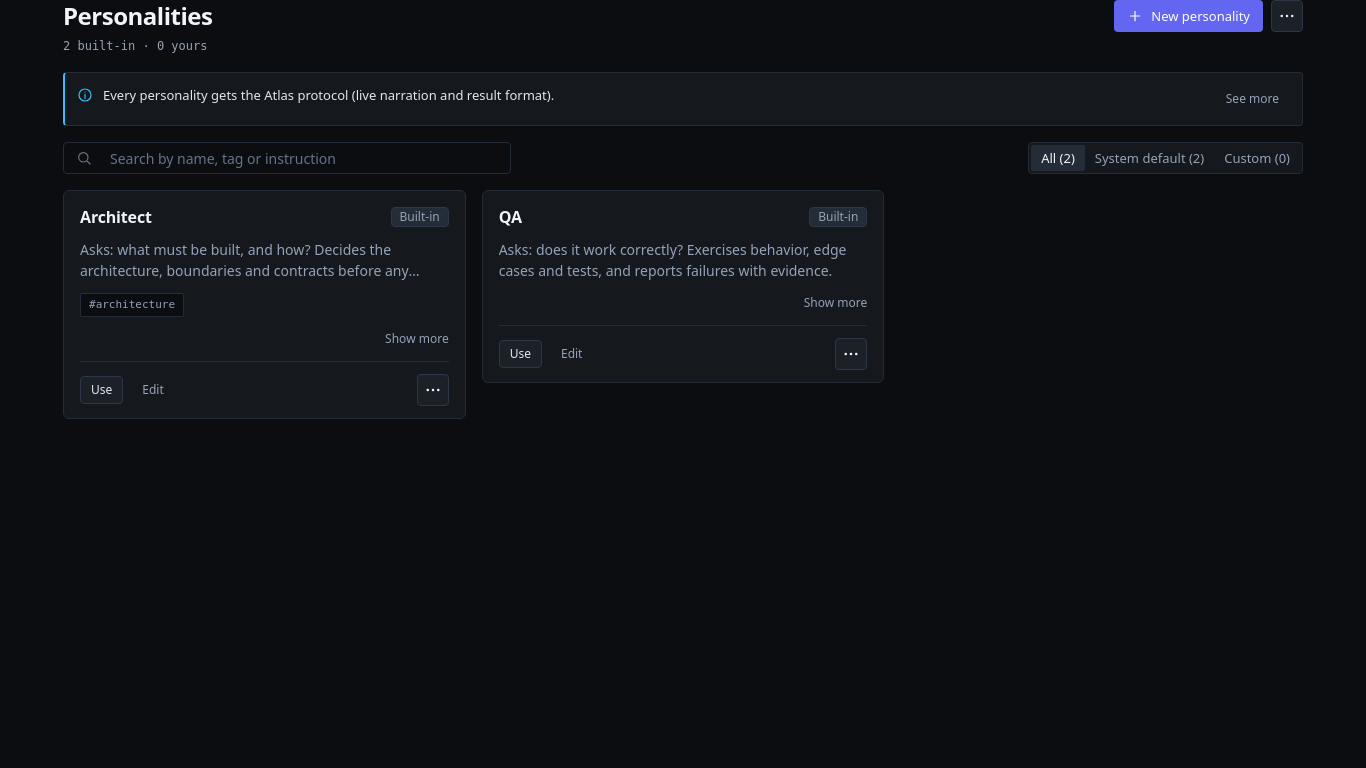
Test case: PersonalitiesPage › words a validation error from the core in the interface language
This screenshot has width=1366, height=768.
Click the button "New personality": (1189, 16) [1114, 0, 1263, 32]
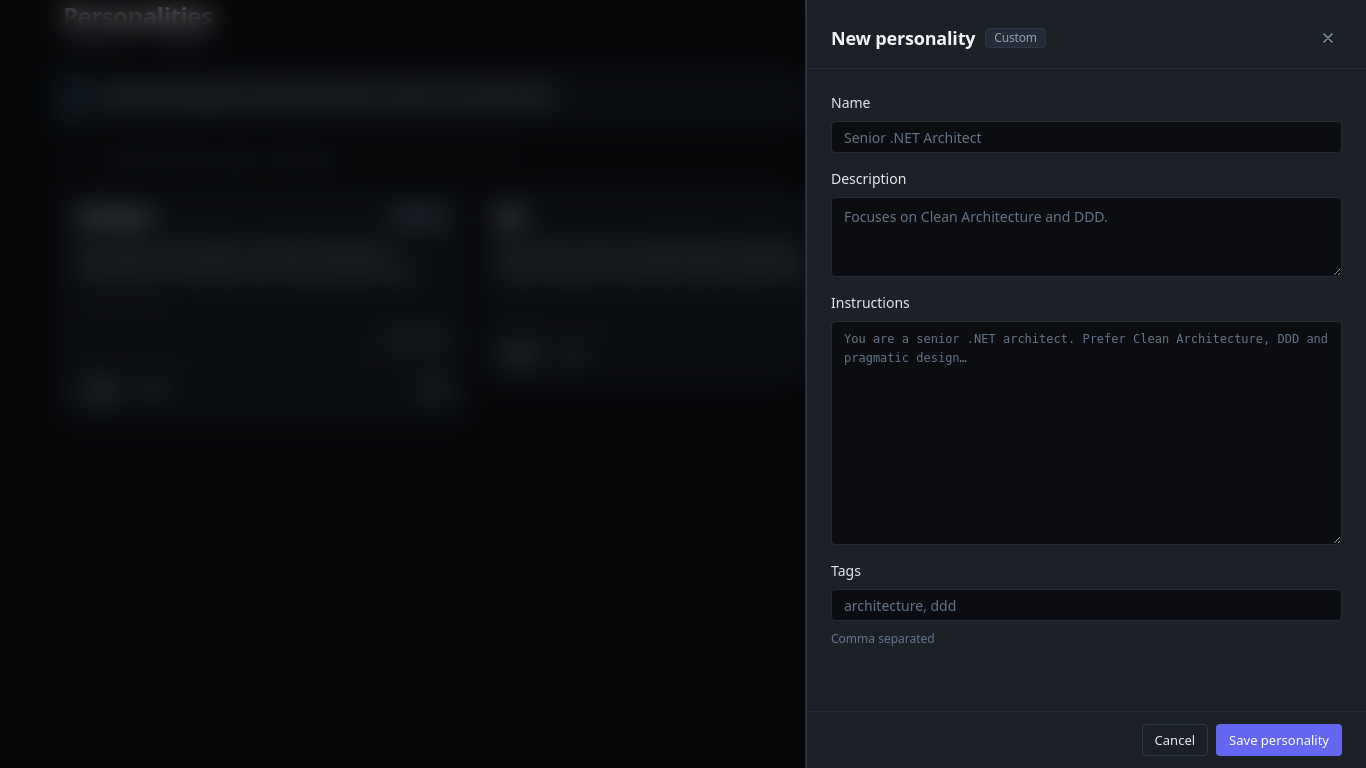
Click the button "Save personality": (1279, 740) [1216, 724, 1342, 756]
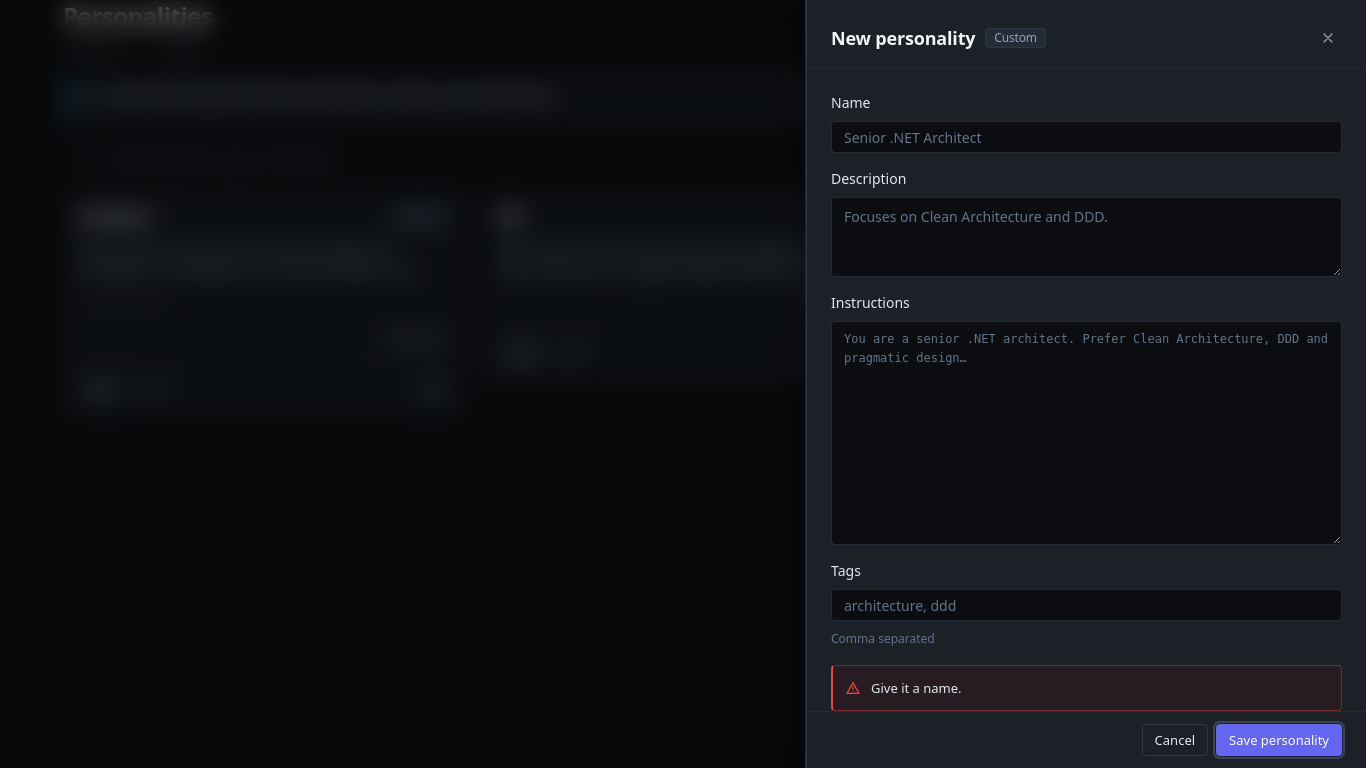
Check: the message reads "Give it a name.", box [871, 679, 962, 697]
